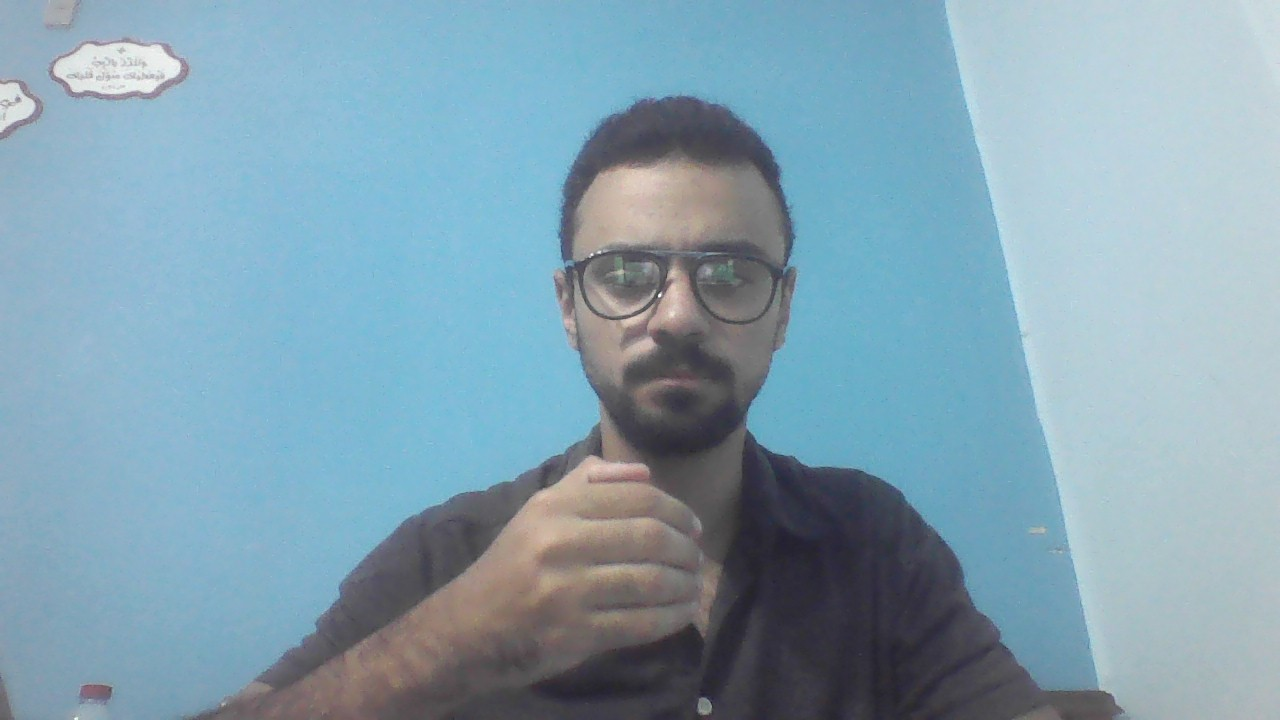drink: (470, 452, 707, 687)
